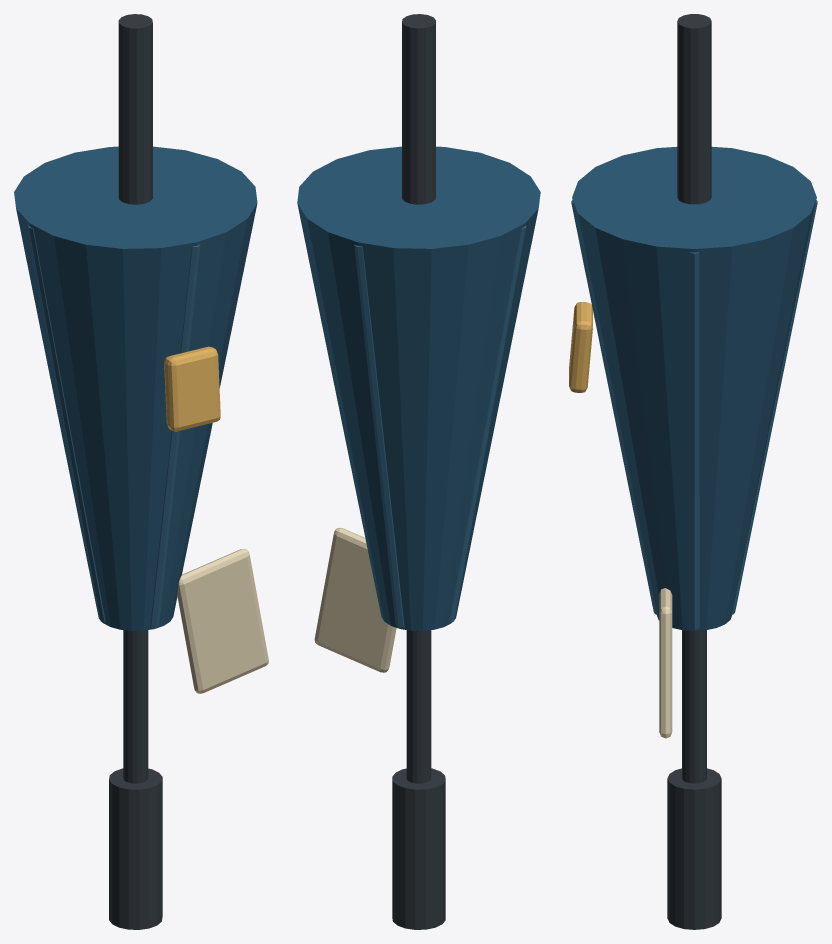
Rendered from umbrella-brass-v1-DBKe97qf.glb.
The picture shows the model from 3 angles, left to right: view 1: azimuth 30°, elevation 25°; view 2: azimuth 150°, elevation 25°; view 3: azimuth 270°, elevation 25°; orthographic projection.
Visible parts, largest first — view 1: Closed navy canopy, Brookfield repair tag, Straight grip, Top ferrule, Brass rib clip, Central shaft, Fold seam 4, Fold seam 3; view 2: Closed navy canopy, Straight grip, Brookfield repair tag, Top ferrule, Central shaft, Fold seam 2, Fold seam 3; view 3: Closed navy canopy, Straight grip, Top ferrule, Fold seam 1, Central shaft, Brookfield repair tag, Brass rib clip, Fold seam 2, Fold seam 4.
Part boxes in pixels (box(x1,y1,x2,y2)): Closed navy canopy: box(14, 146, 257, 630); Brookfield repair tag: box(177, 549, 268, 693); Straight grip: box(109, 768, 162, 929); Top ferrule: box(118, 14, 152, 204); Brass rib clip: box(164, 346, 220, 431); Central shaft: box(123, 630, 148, 783); Fold seam 4: box(150, 245, 200, 627); Fold seam 3: box(28, 225, 105, 622); Closed navy canopy: box(297, 146, 540, 630); Straight grip: box(392, 768, 445, 929); Brookfield repair tag: box(314, 527, 396, 672); Top ferrule: box(402, 14, 435, 204); Central shaft: box(406, 630, 431, 783); Fold seam 2: box(354, 244, 404, 627); Fold seam 3: box(449, 225, 526, 622); Closed navy canopy: box(572, 146, 816, 630); Straight grip: box(667, 768, 721, 929); Top ferrule: box(677, 14, 711, 204); Fold seam 1: box(689, 252, 699, 629); Central shaft: box(682, 630, 706, 783); Brookfield repair tag: box(659, 588, 672, 738); Brass rib clip: box(569, 302, 592, 392); Fold seam 2: box(732, 200, 817, 614); Fold seam 4: box(571, 200, 656, 614).
Size of the model in its own units: 0.7216 by 2.75 by 0.691.
